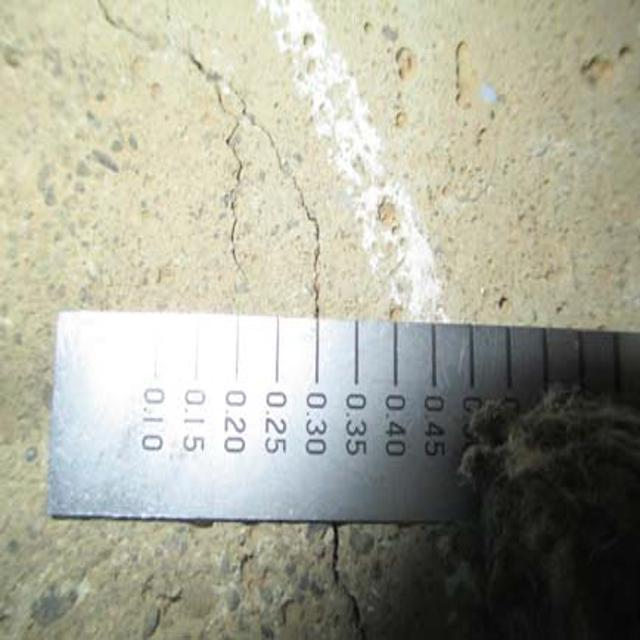crack: (97, 8, 337, 323), (311, 533, 393, 640)
